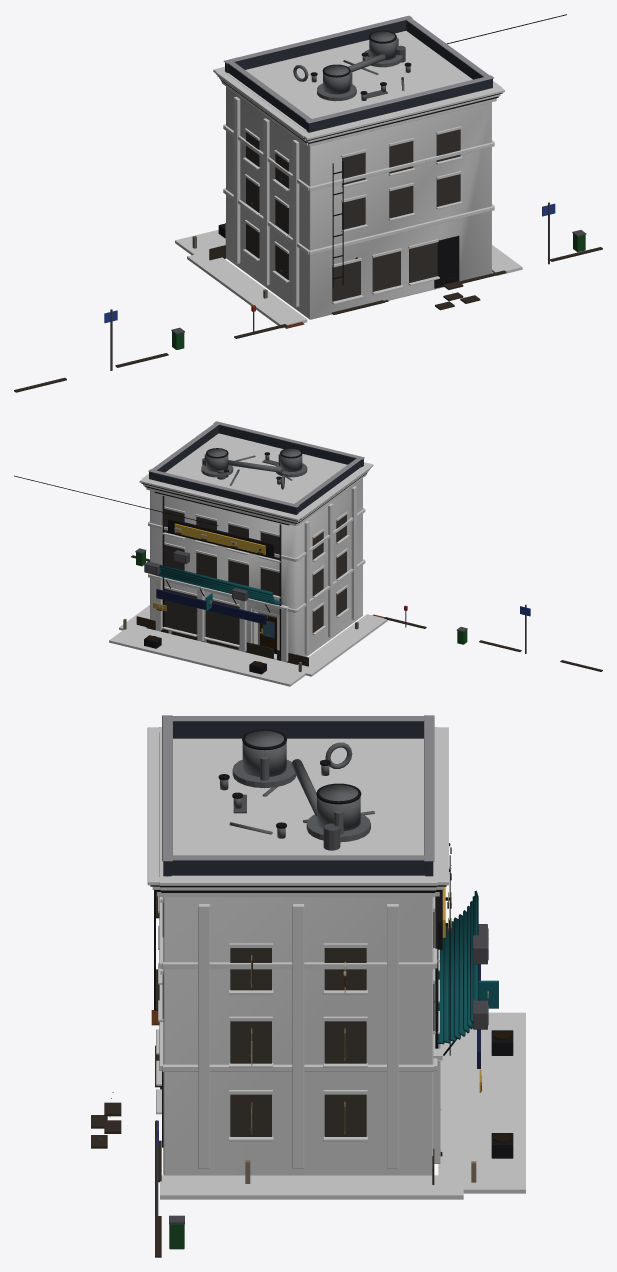
The model's file is hm_storefront_v10.obj.
The picture shows the model from 3 angles, top to bottom: view 1: azimuth 30°, elevation 25°; view 2: azimuth 150°, elevation 25°; view 3: azimuth 270°, elevation 25°; orthographic projection. The views are drawn at different scales.
Visible parts, largest first — view 1: hm_storefront_v10_shell, hm_storefront_v10_roof, hm_storefront_v10_walk_l, hm_storefront_v10_par_par_r, hm_storefront_v10_par_par_f, hm_storefront_v10_corn_cr_4, hm_storefront_v10_lpier_2, hm_storefront_v10_lpier_0, hm_storefront_v10_lpier_1, hm_storefront_v10_alley_frm, hm_storefront_v10_rshop_1_reveal, hm_storefront_v10_rshop_2_reveal (+22 smaller); view 2: hm_storefront_v10_shell, hm_storefront_v10_roof, hm_storefront_v10_walk_f, hm_storefront_v10_walk_l, hm_storefront_v10_awning, hm_storefront_v10_par_par_f, hm_storefront_v10_par_par_r, hm_storefront_v10_v9_sign_store_fascia, hm_storefront_v10_fshop_0_reveal, hm_storefront_v10_fshop_1_reveal, hm_storefront_v10_sign, hm_storefront_v10_corn_cf_4 (+17 smaller); view 3: hm_storefront_v10_shell, hm_storefront_v10_roof, hm_storefront_v10_walk_f, hm_storefront_v10_walk_r, hm_storefront_v10_awning, hm_storefront_v10_par_par_l, hm_storefront_v10_par_par_r.001, hm_storefront_v10_rpier_1, hm_storefront_v10_rpier_0, hm_storefront_v10_rpier_2, hm_storefront_v10_corn_crr_4, hm_storefront_v10_corn_cr_4 (+22 smaller).
Part boxes in pixels (left/top/right/bottom): hm_storefront_v10_shell: left=225, top=87, right=491, bottom=319; hm_storefront_v10_roof: left=245, top=31, right=472, bottom=118; hm_storefront_v10_walk_l: left=187, top=254, right=307, bottom=328; hm_storefront_v10_par_par_r: left=306, top=79, right=492, bottom=132; hm_storefront_v10_par_par_f: left=225, top=20, right=406, bottom=72; hm_storefront_v10_corn_cr_4: left=301, top=86, right=504, bottom=140; hm_storefront_v10_lpier_2: left=233, top=96, right=240, bottom=263; hm_storefront_v10_lpier_0: left=292, top=140, right=299, bottom=306; hm_storefront_v10_lpier_1: left=263, top=118, right=269, bottom=285; hm_storefront_v10_alley_frm: left=434, top=235, right=459, bottom=288; hm_storefront_v10_rshop_1_reveal: left=372, top=251, right=400, bottom=291; hm_storefront_v10_rshop_2_reveal: left=409, top=242, right=437, bottom=282; hm_storefront_v10_shell: left=150, top=478, right=362, bottom=659; hm_storefront_v10_roof: left=165, top=433, right=347, bottom=503; hm_storefront_v10_walk_f: left=109, top=626, right=311, bottom=686; hm_storefront_v10_walk_l: left=298, top=614, right=387, bottom=676; hm_storefront_v10_awning: left=153, top=563, right=282, bottom=605; hm_storefront_v10_par_par_f: left=149, top=472, right=298, bottom=514; hm_storefront_v10_par_par_r: left=218, top=425, right=363, bottom=466; hm_storefront_v10_v9_sign_store_fascia: left=156, top=589, right=266, bottom=624; hm_storefront_v10_fshop_0_reveal: left=205, top=599, right=239, bottom=644; hm_storefront_v10_fshop_1_reveal: left=164, top=588, right=197, bottom=634; hm_storefront_v10_sign: left=174, top=523, right=265, bottom=554; hm_storefront_v10_corn_cf_4: left=139, top=477, right=301, bottom=520; hm_storefront_v10_shell: left=163, top=897, right=433, bottom=1175; hm_storefront_v10_roof: left=173, top=738, right=423, bottom=855; hm_storefront_v10_walk_f: left=438, top=1012, right=525, bottom=1193; hm_storefront_v10_walk_r: left=160, top=1175, right=463, bottom=1199; hm_storefront_v10_awning: left=437, top=890, right=478, bottom=1044; hm_storefront_v10_par_par_l: left=173, top=721, right=423, bottom=738; hm_storefront_v10_par_par_r.001: left=171, top=860, right=425, bottom=875; hm_storefront_v10_rpier_1: left=292, top=904, right=304, bottom=1168; hm_storefront_v10_rpier_0: left=198, top=904, right=209, bottom=1168; hm_storefront_v10_rpier_2: left=387, top=904, right=398, bottom=1168; hm_storefront_v10_corn_crr_4: left=159, top=877, right=437, bottom=885; hm_storefront_v10_corn_cr_4: left=147, top=727, right=167, bottom=885.
Size of the model in its own units: 35.26 by 11.27 by 12.9.
